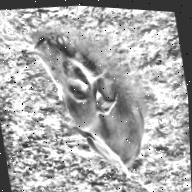boar: (30, 23, 153, 189)
